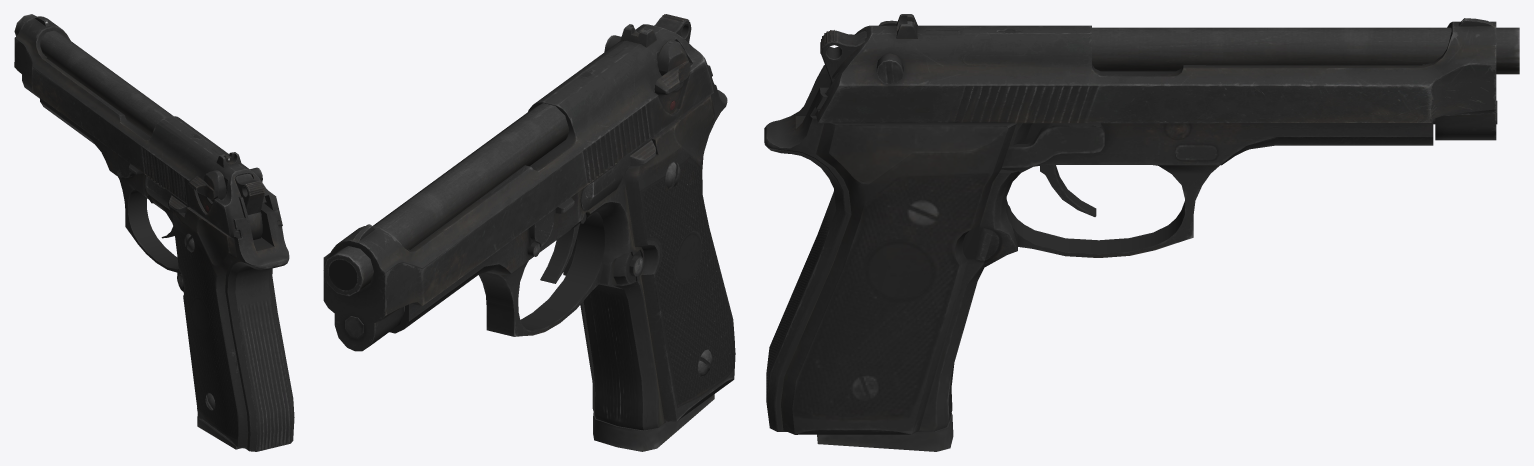
3 renders of one model, left to right at view 1: azimuth 30°, elevation 25°; view 2: azimuth 150°, elevation 25°; view 3: azimuth 270°, elevation 25°, orthographic. The views are drawn at different scales.
Parts seen in each view (by area): view 1: Mesh_0009, Slide, Hammer; view 2: Mesh_0009, Slide, Mag, Trigger, Hammer; view 3: Mesh_0009, Slide, Mag, Hammer, Trigger.
Boxes of the visible parts, x1,y1,x2,y2 form: Mesh_0009: [14, 14, 294, 451]; Slide: [14, 16, 282, 238]; Hammer: [235, 173, 264, 239]; Mesh_0009: [323, 65, 735, 430]; Slide: [323, 24, 715, 351]; Mag: [593, 394, 714, 451]; Trigger: [540, 224, 579, 283]; Hammer: [654, 14, 691, 42]; Mesh_0009: [764, 27, 1519, 434]; Slide: [815, 14, 1496, 140]; Mag: [817, 413, 953, 451]; Hammer: [820, 30, 866, 85]; Trigger: [1040, 165, 1096, 216].
Bounding box in the file's own units: 0.3887 × 1.55 × 2.55.
Materials: 1 (1 with a texture image).
